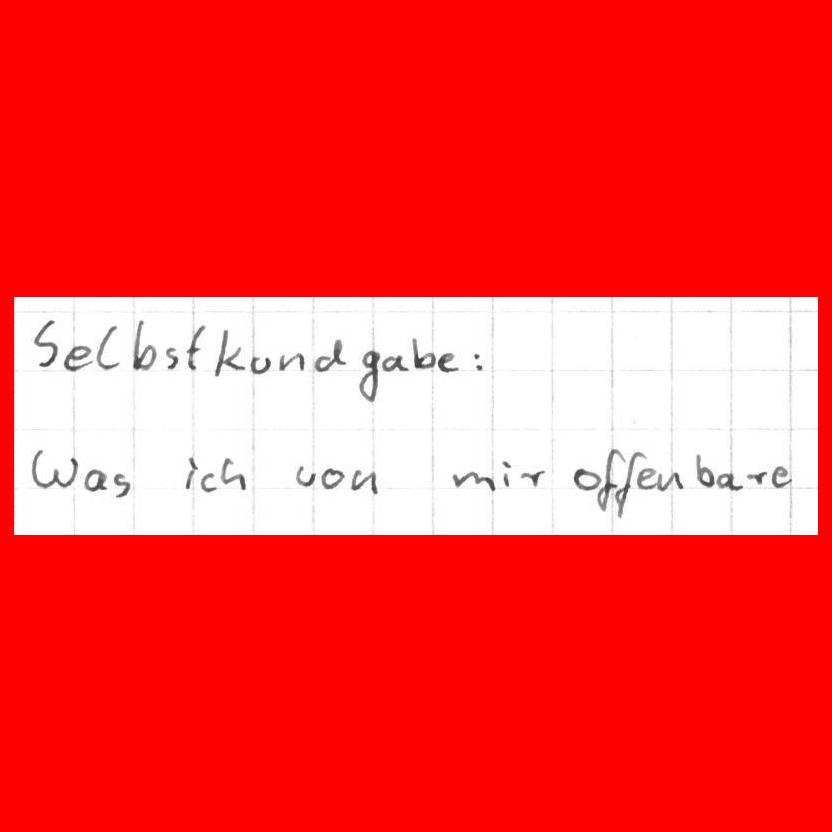Char: (28, 447, 81, 492), (211, 326, 245, 378), (596, 445, 621, 514), (31, 315, 60, 371), (131, 317, 160, 371), (617, 448, 637, 520), (355, 349, 381, 403), (94, 322, 122, 372), (313, 337, 348, 374), (184, 321, 209, 372), (448, 467, 496, 493), (220, 455, 249, 490), (62, 343, 94, 372), (410, 335, 437, 369), (349, 466, 381, 494), (292, 461, 320, 492), (695, 450, 716, 489), (570, 464, 601, 490), (277, 348, 309, 373), (318, 463, 347, 490), (655, 468, 684, 493), (110, 469, 133, 499), (182, 454, 200, 492), (83, 466, 108, 493), (633, 464, 656, 492), (519, 467, 547, 489), (715, 470, 743, 492), (439, 350, 463, 373), (380, 354, 410, 372), (499, 457, 517, 487), (198, 469, 219, 494), (770, 464, 791, 489), (249, 352, 272, 374), (163, 344, 180, 371), (745, 468, 768, 487), (471, 349, 486, 373)
